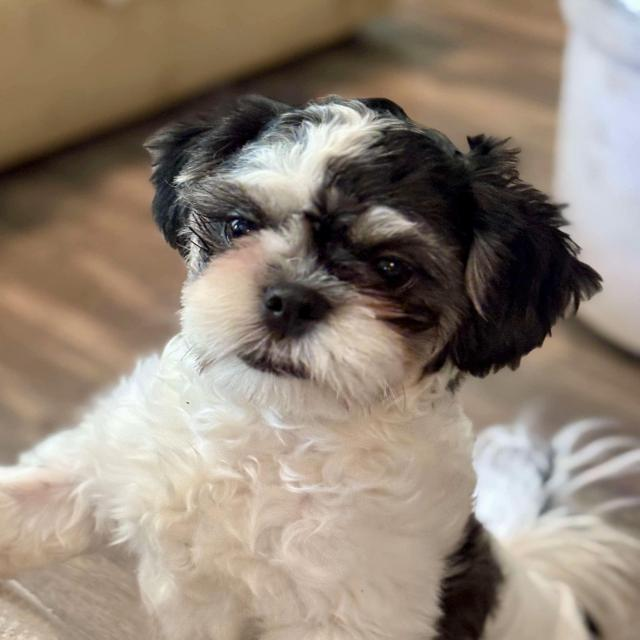shih_tzu_dog: (127, 77, 608, 439)
